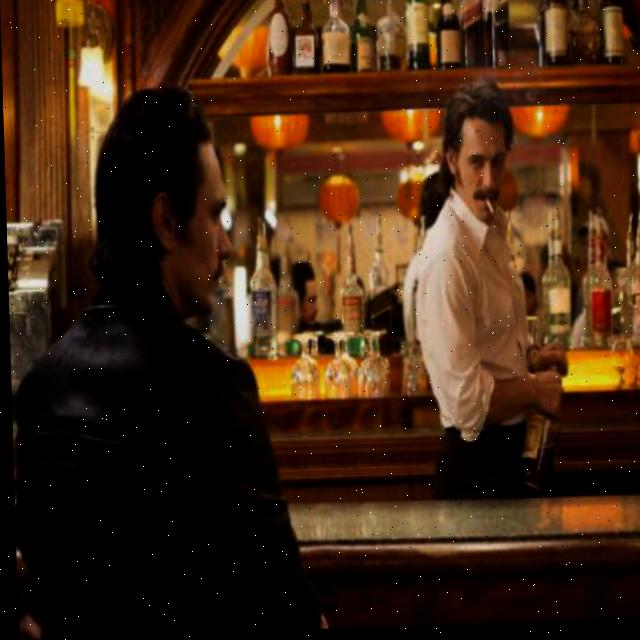cigarette: (484, 202, 493, 220)
